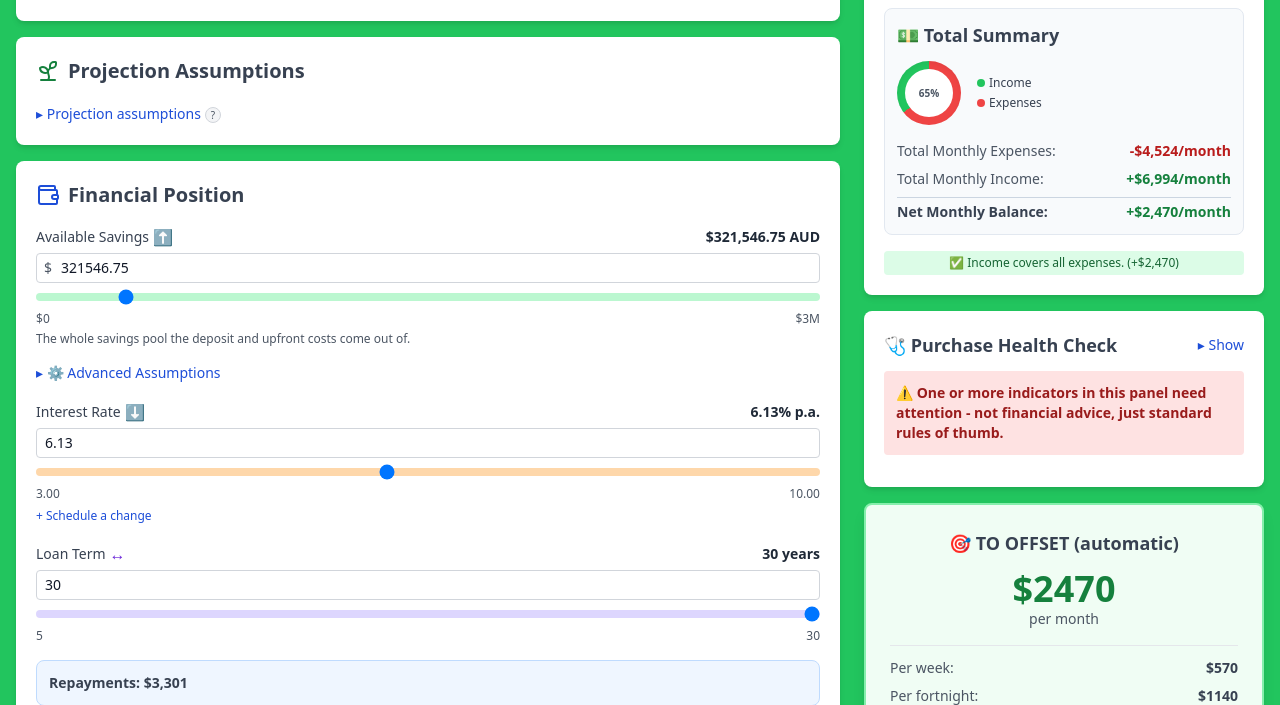
Emergency/Vacancy Buffer settlement-shortfall display (TODO-149) › reads "0.0 months" (not the shortfall wording) exactly at the liquidSavings === 0 boundary
(page scrolled)
Click the button "▸ Show". click: (1221,345)
box: [1198,335,1244,355]
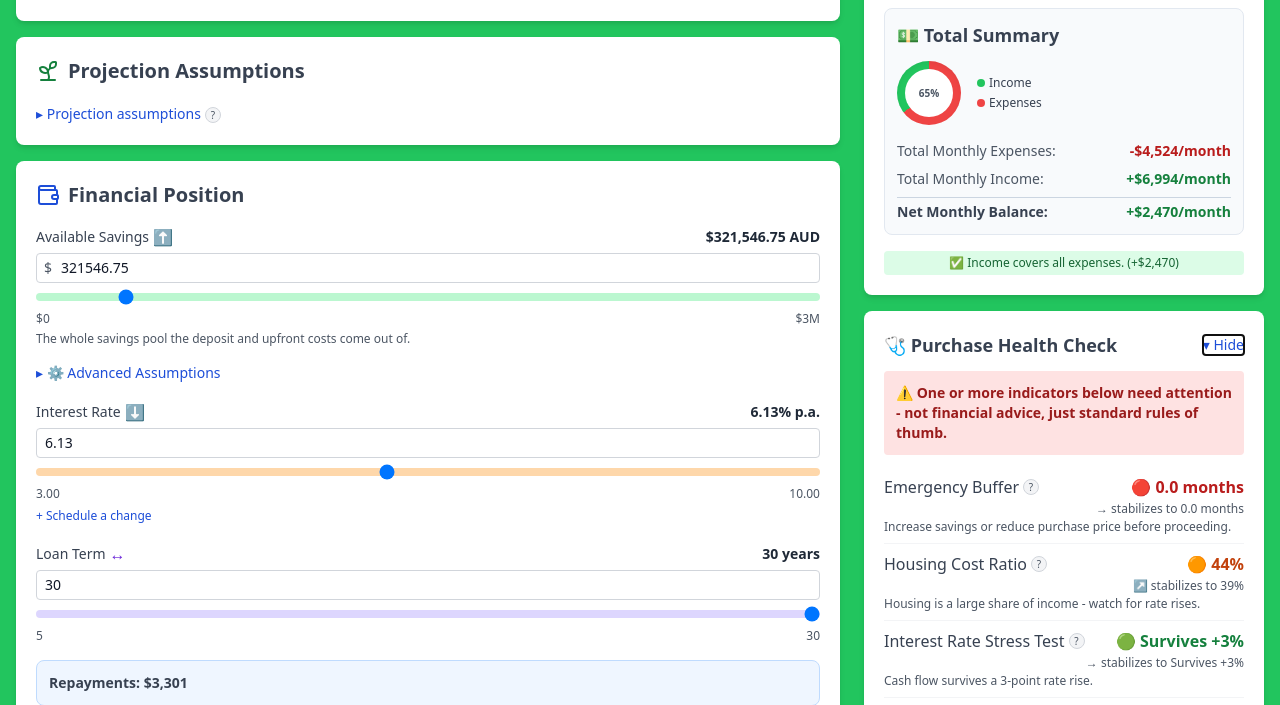
Expected: the text "🔴 0.0 months" is shown, [1131,475,1244,499]
